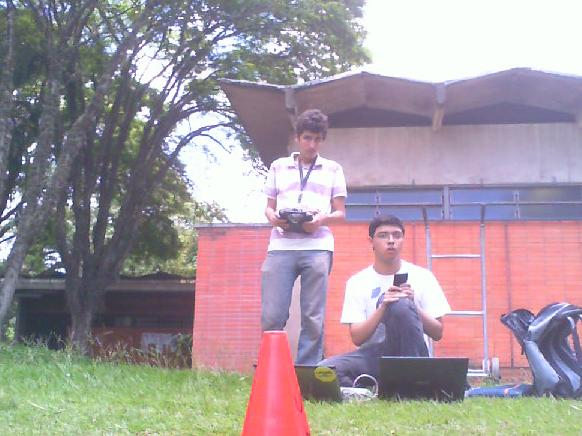0 cone: (231, 332, 320, 436)
